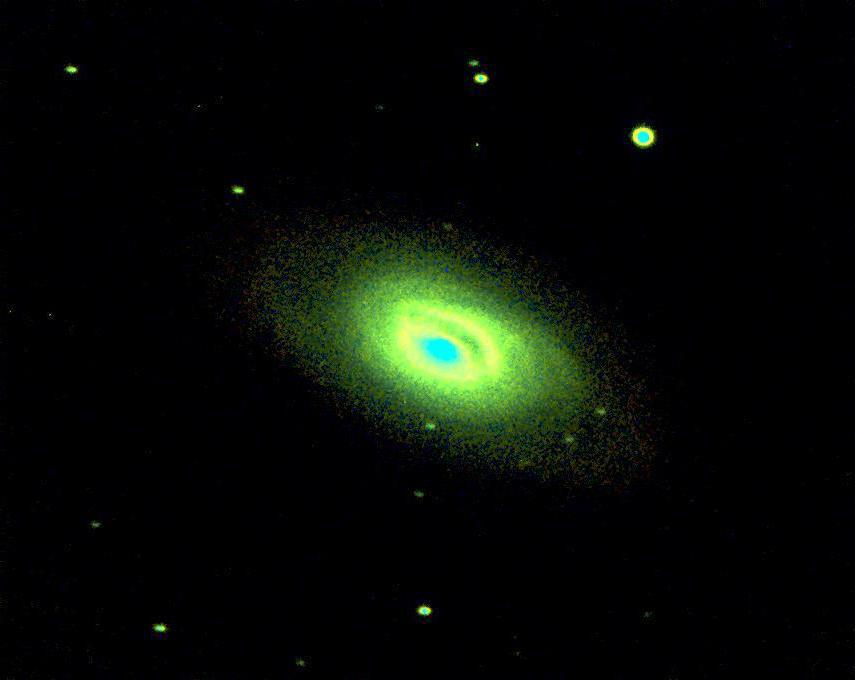star: (287, 648, 317, 678)
